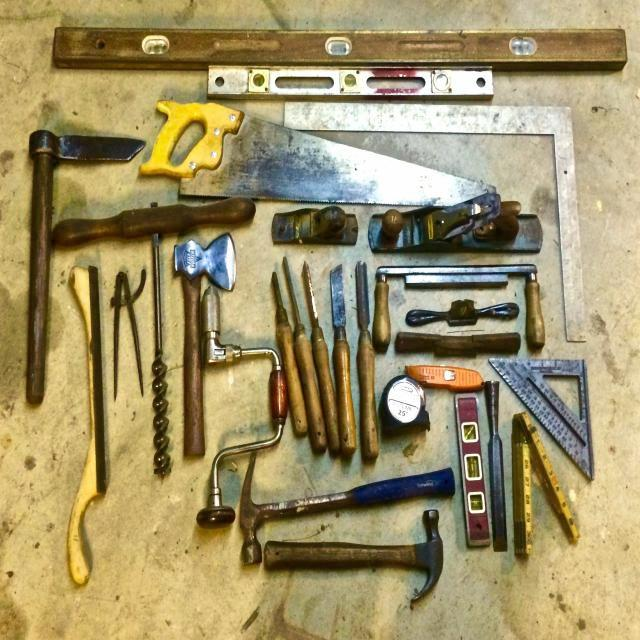hammer: (232, 444, 457, 562), (254, 502, 453, 626), (170, 232, 248, 468)
